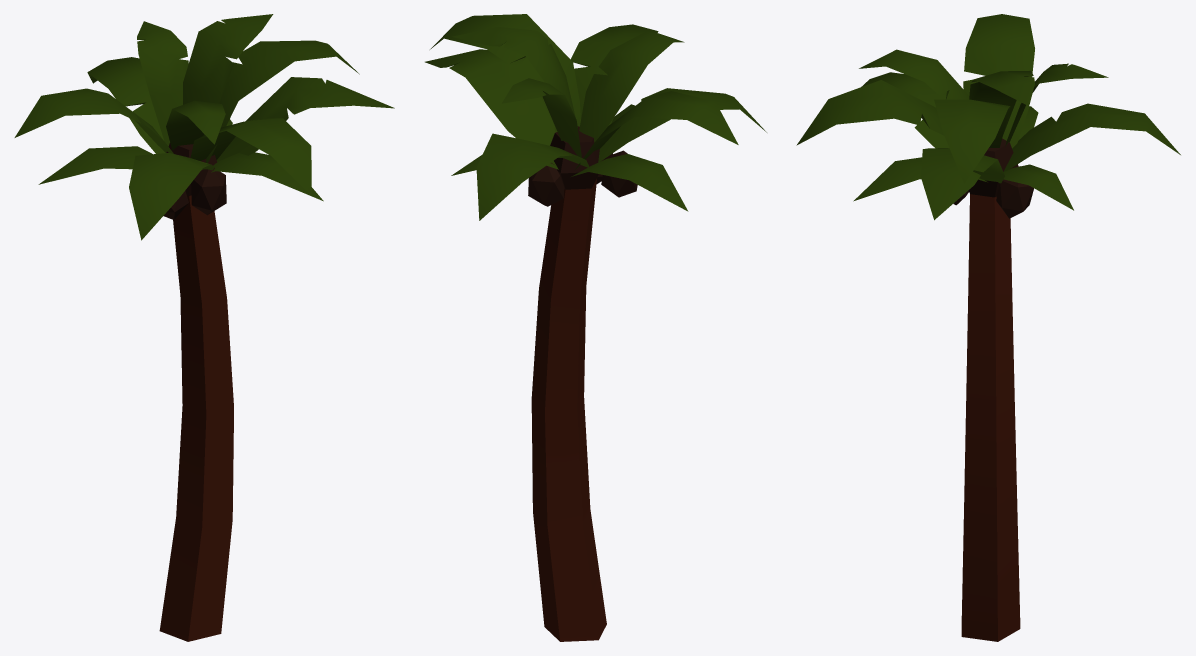
The model's file is Palmtree2.fbx.glb.
3 renders of one model, left to right at view 1: azimuth 30°, elevation 25°; view 2: azimuth 150°, elevation 25°; view 3: azimuth 270°, elevation 25°, orthographic.
Parts seen in each view (by area): view 1: Palmtree2; view 2: Palmtree2; view 3: Palmtree2.
Boxes of the visible parts, <box> form: Palmtree2: <box>14,14,394,641</box>; Palmtree2: <box>425,14,766,641</box>; Palmtree2: <box>796,14,1180,641</box>.
Size of the model in its own units: 280 by 449 by 271.
